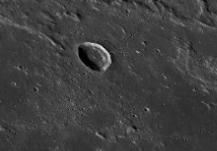crater: (45, 18, 135, 88)
